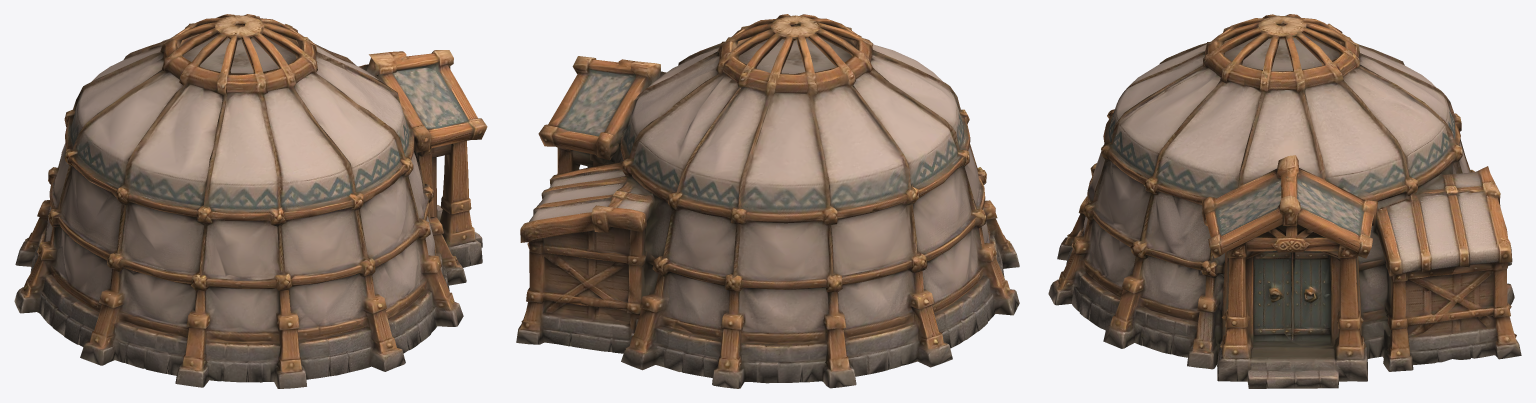
File: yurt-sv5.glb
3 renders of one model, left to right at view 1: azimuth 30°, elevation 25°; view 2: azimuth 150°, elevation 25°; view 3: azimuth 270°, elevation 25°, orthographic. The views are drawn at different scales.
Visible parts, largest first — view 1: tripo_node_ffb59475-d61f-4610-b2ab-3240ca3be3b3; view 2: tripo_node_ffb59475-d61f-4610-b2ab-3240ca3be3b3; view 3: tripo_node_ffb59475-d61f-4610-b2ab-3240ca3be3b3.
Part boxes in pixels (x1,y1,x2,y2): tripo_node_ffb59475-d61f-4610-b2ab-3240ca3be3b3: (14, 14, 487, 388); tripo_node_ffb59475-d61f-4610-b2ab-3240ca3be3b3: (516, 14, 1019, 388); tripo_node_ffb59475-d61f-4610-b2ab-3240ca3be3b3: (1048, 14, 1521, 388).
Size of the model in its own units: 0.983 by 0.6038 by 1.
1 material, 1 textured.
